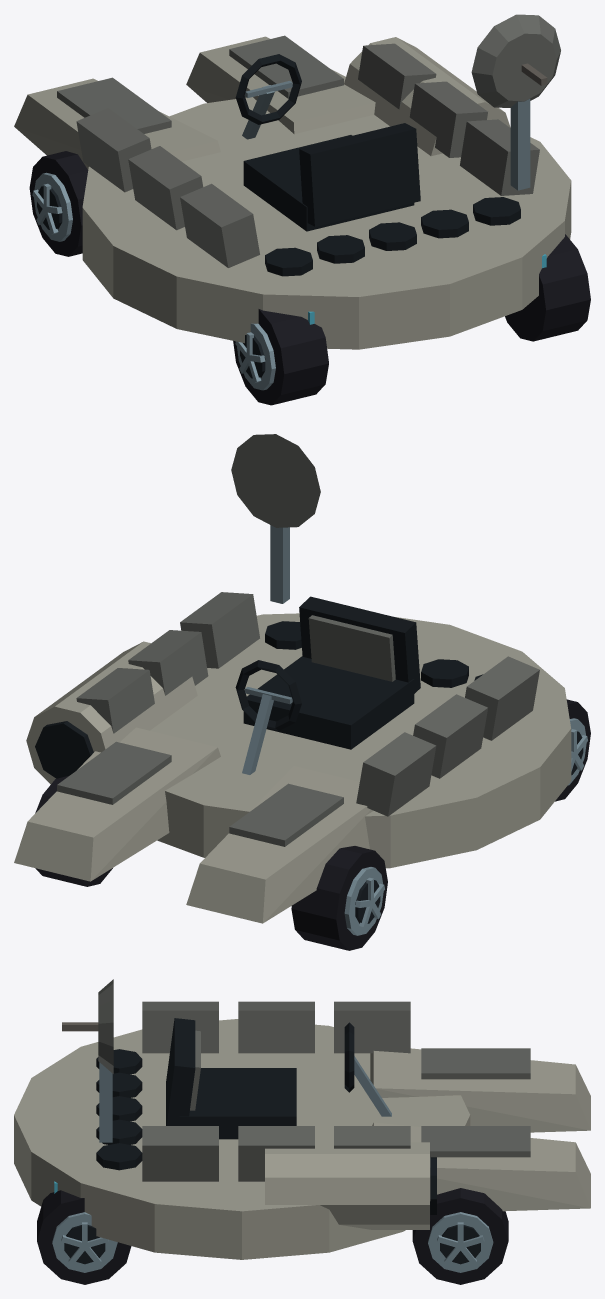
File: kart.glb
3 renders of one model, top to bottom at view 1: azimuth 30°, elevation 25°; view 2: azimuth 150°, elevation 25°; view 3: azimuth 270°, elevation 25°, orthographic. The views are drawn at different scales.
Parts seen in each view (by area): view 1: identity-falcon-falcon-saucer-and-split-mandibles, identity-falcon-motif-armor, identity-falcon-driver-cockpit, identity-falcon-motif-radar, wheel-rear-left, wheel-rear-right, wheel-front-left; view 2: identity-falcon-falcon-saucer-and-split-mandibles, identity-falcon-motif-armor, identity-falcon-driver-cockpit, identity-falcon-motif-radar, wheel-front-left, wheel-rear-left, wheel-front-right; view 3: identity-falcon-falcon-saucer-and-split-mandibles, identity-falcon-motif-armor, identity-falcon-driver-cockpit, wheel-front-right, wheel-rear-right, identity-falcon-motif-radar.
Part boxes in pixels (x1,y1,x2,y2): identity-falcon-falcon-saucer-and-split-mandibles: [14, 35, 571, 349]; identity-falcon-motif-armor: [76, 43, 539, 267]; identity-falcon-driver-cockpit: [235, 54, 420, 231]; identity-falcon-motif-radar: [471, 14, 560, 190]; wheel-rear-left: [233, 309, 328, 405]; wheel-rear-right: [505, 234, 590, 341]; wheel-front-left: [29, 151, 88, 256]; identity-falcon-falcon-saucer-and-split-mandibles: [14, 613, 571, 923]; identity-falcon-motif-armor: [76, 592, 539, 816]; identity-falcon-driver-cockpit: [235, 596, 420, 774]; identity-falcon-motif-radar: [231, 434, 320, 603]; wheel-front-left: [291, 846, 387, 950]; wheel-rear-left: [555, 699, 590, 801]; wheel-front-right: [35, 776, 112, 886]; identity-falcon-falcon-saucer-and-split-mandibles: [14, 1019, 590, 1259]; identity-falcon-motif-armor: [142, 1001, 410, 1181]; identity-falcon-driver-cockpit: [166, 1018, 391, 1139]; wheel-front-right: [412, 1188, 508, 1284]; wheel-rear-right: [37, 1190, 131, 1284]; identity-falcon-motif-radar: [62, 979, 113, 1142].
Bounding box in the file's own units: 2.38 × 1.65 × 3.01.
